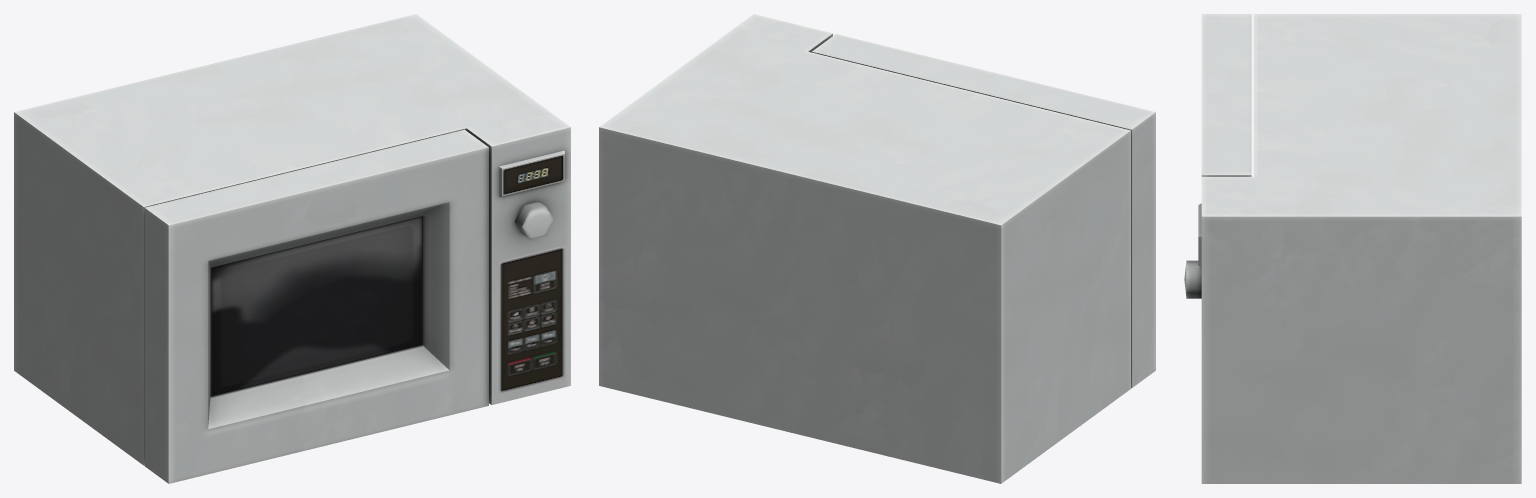
File: Sun_0091_Microwave.fbx
3 views of the same model, side by side, from view 1: azimuth 30°, elevation 25°; view 2: azimuth 150°, elevation 25°; view 3: azimuth 270°, elevation 25° (orthographic). The views are drawn at different scales.
Visible parts, largest first — view 1: Sun_0091_Microwave; view 2: Sun_0091_Microwave; view 3: Sun_0091_Microwave.
Part boxes in pixels (left/top/right/bottom): Sun_0091_Microwave: left=14, top=14, right=570, bottom=483; Sun_0091_Microwave: left=599, top=14, right=1155, bottom=483; Sun_0091_Microwave: left=1184, top=14, right=1521, bottom=483.
Size of the model in its own units: 60.39 by 37.11 by 42.45.
